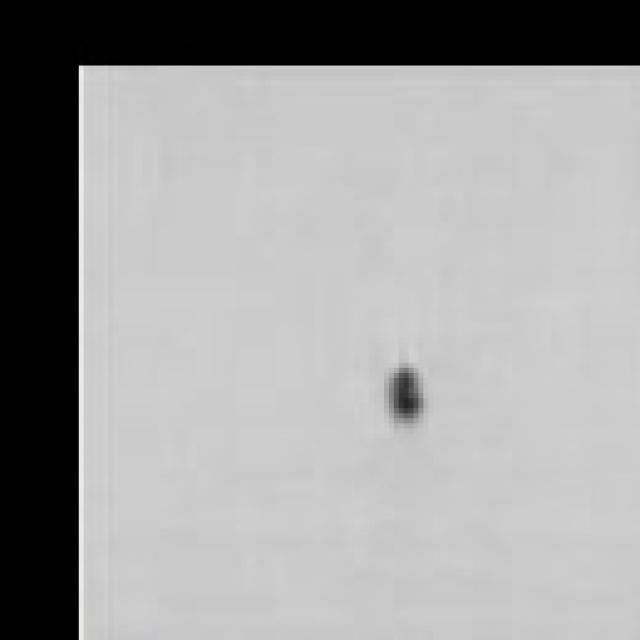Defect3: (358, 327, 466, 446)
